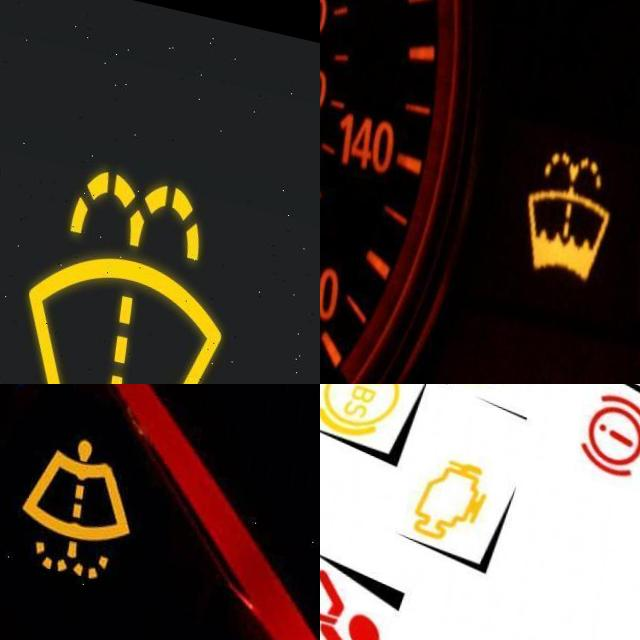Washer Fluid: (23, 417, 147, 572)
